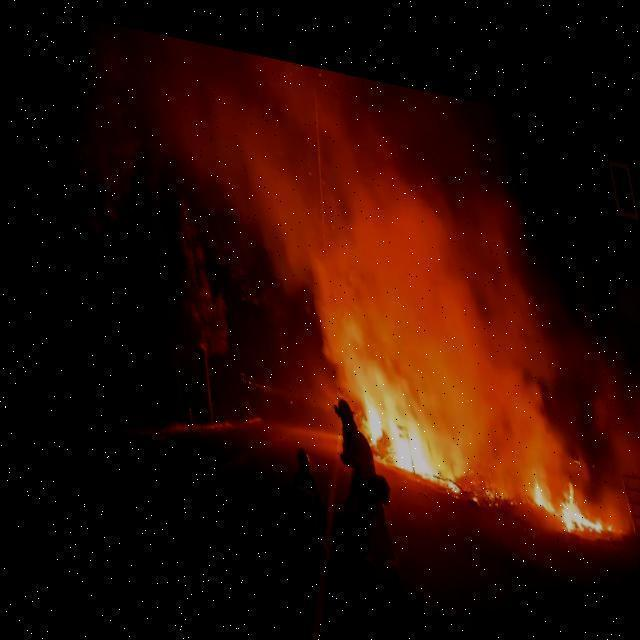Fire: (338, 354, 462, 488), (510, 448, 600, 520)
